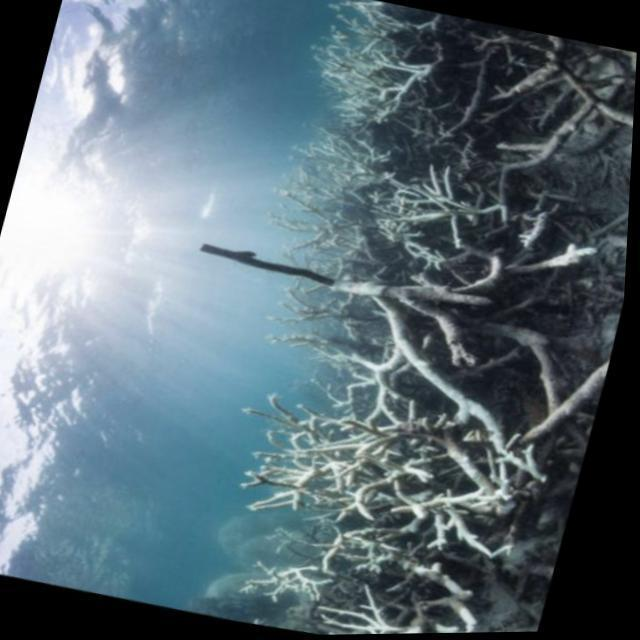Dead Coral: (160, 0, 640, 638)
